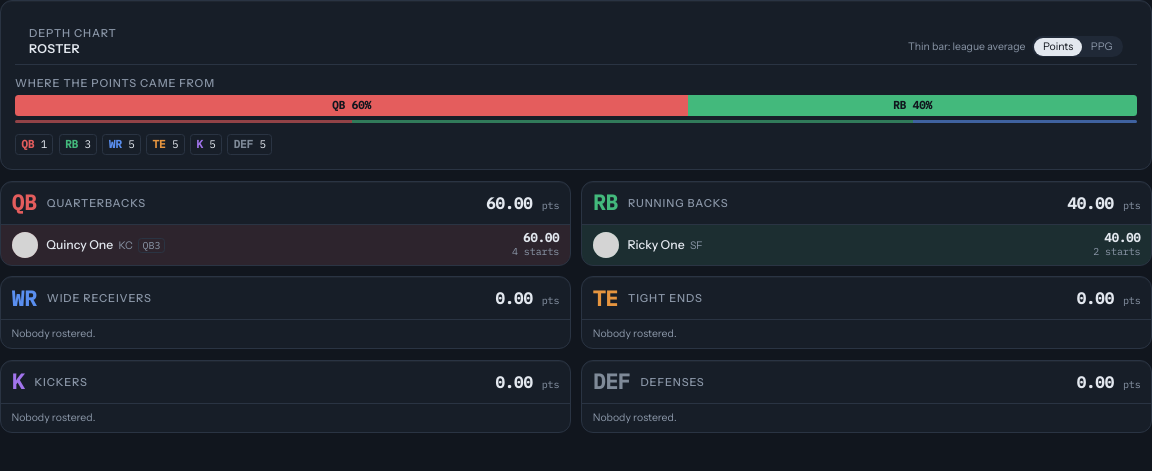
RosterBreakdown › switches to points per start, showing a dash for anyone under three starts
The image size is (1152, 471).
What coordinates should you click on to do the following:
click the button "PPG"
I would click on:
 (1102, 47)
Its box is [1082, 38, 1121, 56].
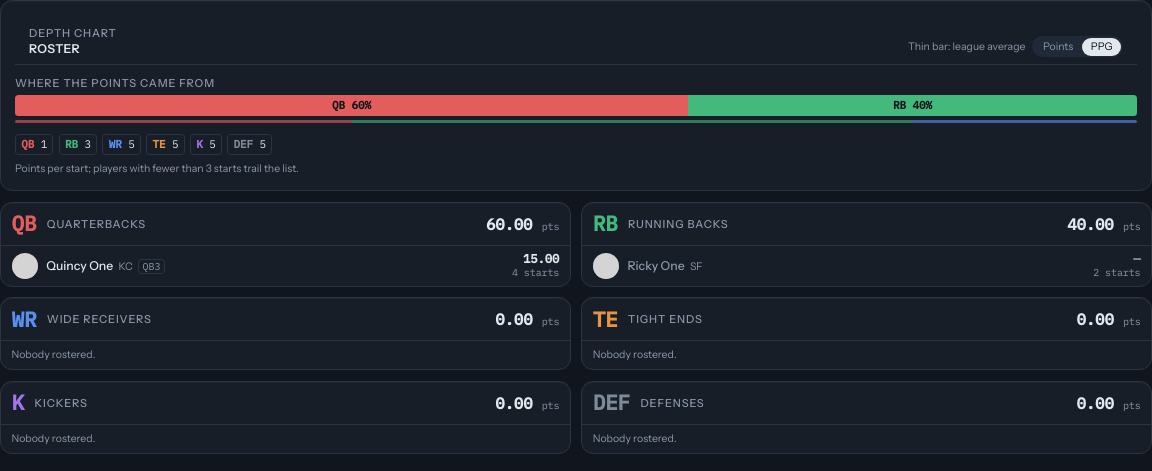
Expected: the list item "Ricky One" shows "2 starts", [582, 246, 1151, 286]
Now the text "15.00" is shown, box [523, 250, 559, 266]
Now the list item "Ricky One" shows "—", box [1133, 250, 1140, 266]
